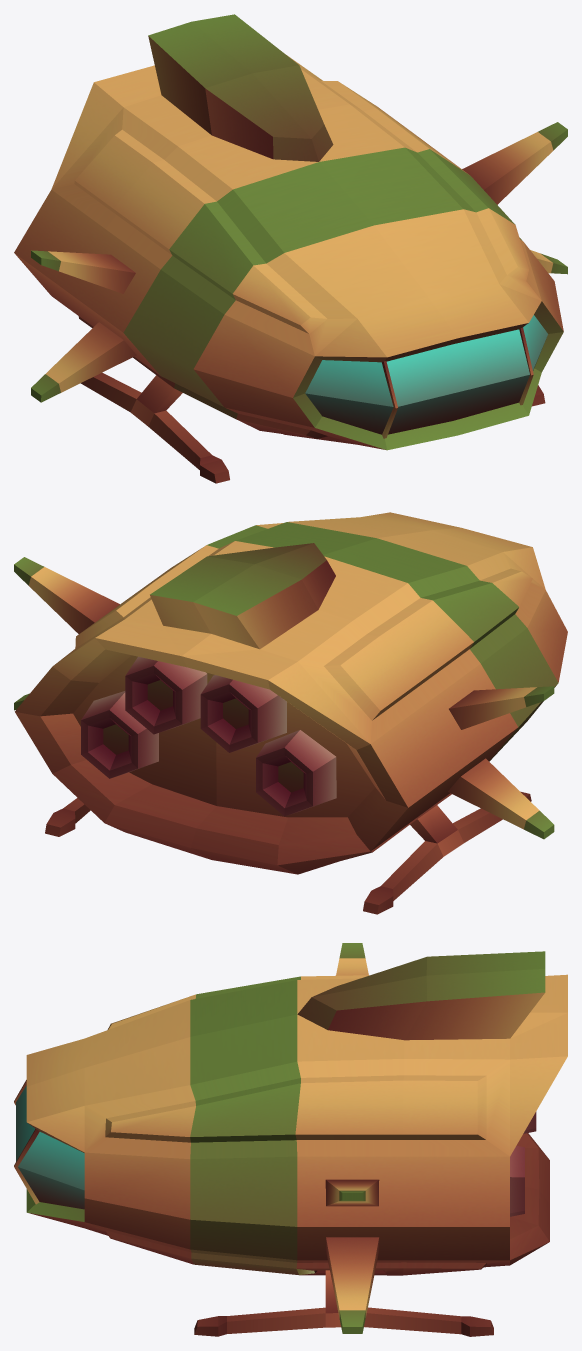
Rendered from Spaceship_D_skin2.FBX.
The picture shows the model from 3 angles, top to bottom: view 1: azimuth 30°, elevation 25°; view 2: azimuth 150°, elevation 25°; view 3: azimuth 270°, elevation 25°; orthographic projection. The views are drawn at different scales.
Visible parts, largest first — view 1: Ship_D_skin2, wing_D_skin_2 (×3), landing_gear_D_skin_2; view 2: Ship_D_skin2, wing_D_skin_2 (×3), landing_gear_D_skin_2 (×2); view 3: Ship_D_skin2, wing_D_skin_2 (×3), landing_gear_D_skin_2.
Boxes of the visible parts, x1=… form: Ship_D_skin2: x1=14, y1=14, x2=563, y2=450; wing_D_skin_2 (×3): x1=31, y1=122, x2=567, y2=402; landing_gear_D_skin_2: x1=80, y1=372, x2=229, y2=483; Ship_D_skin2: x1=15, y1=512, x2=567, y2=874; wing_D_skin_2 (×3): x1=14, y1=557, x2=554, y2=839; landing_gear_D_skin_2 (×2): x1=45, y1=791, x2=531, y2=914; Ship_D_skin2: x1=14, y1=951, x2=567, y2=1275; wing_D_skin_2 (×3): x1=325, y1=943, x2=379, y2=1333; landing_gear_D_skin_2: x1=194, y1=1270, x2=493, y2=1336.
Bounding box in the file's own units: 17.81 × 9.43 × 16.68.
